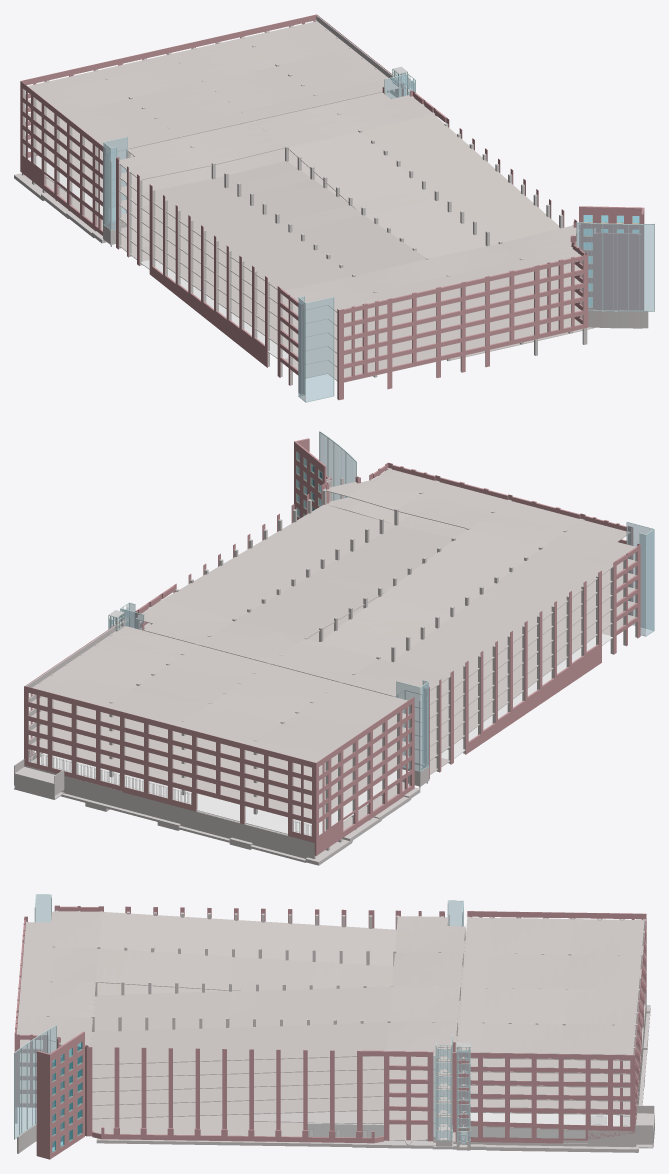
The picture shows the model from 3 angles, top to bottom: view 1: azimuth 30°, elevation 25°; view 2: azimuth 150°, elevation 25°; view 3: azimuth 270°, elevation 25°; orthographic projection. The views are drawn at different scales.
Parts seen in each view (by area): view 1: 1Kfz5jpBHCXB9eeruXqHIb, 0c2stYNlTEjveY3LvhSHKI, 0c2stYNlTEjveY3LvhSHN_, 1Kfz5jpBHCXB9eeruXqHH1, 1Kfz5jpBHCXB9eeruXqHHX, 2Dllb4ndP5l8WDm214kUvk, 302LR4o954qwRBxpGktIB7, 2dSf0svjP7rhVlUcWVMVfy, 29OfwKliP91gPP679OM9Lb, 3aBc8vPuD59fXLtMAkX8ID, 0r3swWNLX8wOqJtIxuchx0, 3aBc8vPuD59fXLtMAkX8I7 (+24 smaller); view 2: 1Kfz5jpBHCXB9eeruXqHIb, 0c2stYNlTEjveY3LvhSHN_, 0c2stYNlTEjveY3LvhSHKI, 2Dllb4ndP5l8WDm214kU__, 1Kfz5jpBHCXB9eeruXqHHX, 1Kfz5jpBHCXB9eeruXqHH1, 2Dllb4ndP5l8WDm214kUvk, 2_olzGh_jEMxTcpcwx1et6, 0GjpF04mX1K8P$TdM8fU7l, 1Kfz5jpBHCXB9eeruXqHIz, 1Kfz5jpBHCXB9eeruXqHIr, 1Kfz5jpBHCXB9eeruXqHID (+17 smaller); view 3: 1Kfz5jpBHCXB9eeruXqHIb, 0c2stYNlTEjveY3LvhSHKI, 0c2stYNlTEjveY3LvhSHN_, 1Kfz5jpBHCXB9eeruXqHHX, 1Kfz5jpBHCXB9eeruXqHH1, 2Dllb4ndP5l8WDm214kUyq, 0VAEOgyk90AxIrZld_LBJb, 3BWObGKon43gv03_4OhP$A, 0c2stYNlTEjveY3LvhSHK2, 0c2stYNlTEjveY3LvhSHKA, 0c2stYNlTEjveY3LvhSHKw, 3yTjO8CpH8GR5SljxLVDxB (+41 smaller).
Boxes of the visible parts, x1=… form: 1Kfz5jpBHCXB9eeruXqHIb: x1=28, y1=21, x2=400, y2=153; 0c2stYNlTEjveY3LvhSHKI: x1=287, y1=114, x2=559, y2=258; 0c2stYNlTEjveY3LvhSHN_: x1=140, y1=161, x2=425, y2=290; 1Kfz5jpBHCXB9eeruXqHH1: x1=119, y1=92, x2=433, y2=179; 1Kfz5jpBHCXB9eeruXqHHX: x1=284, y1=225, x2=582, y2=313; 2Dllb4ndP5l8WDm214kUvk: x1=20, y1=81, x2=105, y2=206; 302LR4o954qwRBxpGktIB7: x1=597, y1=232, x2=637, y2=310; 2dSf0svjP7rhVlUcWVMVfy: x1=306, y1=297, x2=333, y2=402; 29OfwKliP91gPP679OM9Lb: x1=284, y1=318, x2=583, y2=382; 3aBc8vPuD59fXLtMAkX8ID: x1=284, y1=241, x2=582, y2=327; 0r3swWNLX8wOqJtIxuchx0: x1=284, y1=304, x2=581, y2=368; 3aBc8vPuD59fXLtMAkX8I7: x1=284, y1=277, x2=582, y2=341; 1Kfz5jpBHCXB9eeruXqHIb: x1=32, y1=626, x2=407, y2=762; 0c2stYNlTEjveY3LvhSHN_: x1=320, y1=529, x2=612, y2=689; 0c2stYNlTEjveY3LvhSHKI: x1=163, y1=504, x2=451, y2=637; 2Dllb4ndP5l8WDm214kU__: x1=24, y1=686, x2=316, y2=824; 1Kfz5jpBHCXB9eeruXqHHX: x1=324, y1=468, x2=635, y2=565; 1Kfz5jpBHCXB9eeruXqHH1: x1=136, y1=600, x2=450, y2=696; 2Dllb4ndP5l8WDm214kUvk: x1=316, y1=696, x2=414, y2=823; 2_olzGh_jEMxTcpcwx1et6: x1=31, y1=753, x2=408, y2=835; 0GjpF04mX1K8P$TdM8fU7l: x1=63, y1=781, x2=315, y2=859; 1Kfz5jpBHCXB9eeruXqHIz: x1=31, y1=696, x2=408, y2=776; 1Kfz5jpBHCXB9eeruXqHIr: x1=31, y1=710, x2=408, y2=790; 1Kfz5jpBHCXB9eeruXqHID: x1=31, y1=724, x2=408, y2=804; 1Kfz5jpBHCXB9eeruXqHIb: x1=456, y1=917, x2=644, y2=1054; 0c2stYNlTEjveY3LvhSHKI: x1=91, y1=986, x2=391, y2=1064; 0c2stYNlTEjveY3LvhSHN_: x1=96, y1=912, x2=396, y2=990; 1Kfz5jpBHCXB9eeruXqHHX: x1=16, y1=911, x2=101, y2=1046; 1Kfz5jpBHCXB9eeruXqHH1: x1=386, y1=916, x2=465, y2=1055; 2Dllb4ndP5l8WDm214kUyq: x1=452, y1=1052, x2=635, y2=1114; 0VAEOgyk90AxIrZld_LBJb: x1=92, y1=1114, x2=454, y2=1141; 3BWObGKon43gv03_4OhP$A: x1=92, y1=1096, x2=383, y2=1119; 0c2stYNlTEjveY3LvhSHK2: x1=92, y1=1069, x2=383, y2=1092; 0c2stYNlTEjveY3LvhSHKA: x1=92, y1=1056, x2=383, y2=1078; 0c2stYNlTEjveY3LvhSHKw: x1=92, y1=1083, x2=383, y2=1105; 3yTjO8CpH8GR5SljxLVDxB: x1=48, y1=1031, x2=84, y2=1159.
Size of the model in its own units: 80.53 by 25.6 by 131.
